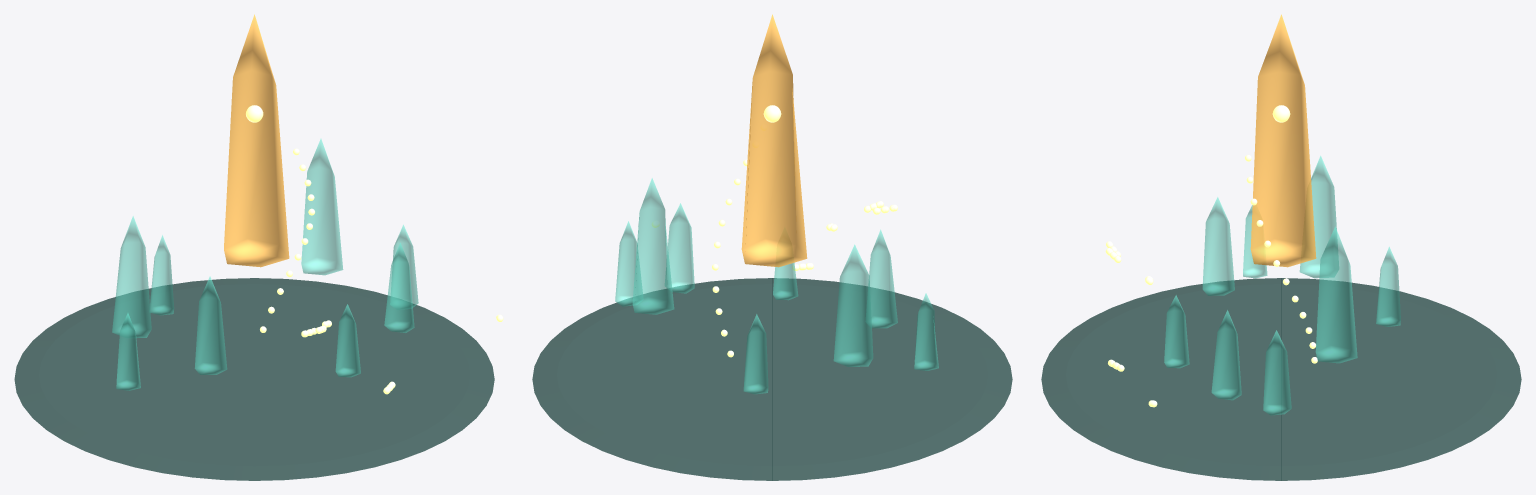
File: crystal-cluster.glb
The picture shows the model from 3 angles, left to right: view 1: azimuth 30°, elevation 25°; view 2: azimuth 150°, elevation 25°; view 3: azimuth 270°, elevation 25°; orthographic projection.
Parts seen in each view (by area): view 1: dark_crystal_base, main_crystal_final, cluster_crystal_02, cluster_crystal_00, cluster_crystal_01, cluster_crystal_03, cluster_crystal_05, cluster_crystal_06, cluster_crystal_04, cluster_crystal_07; view 2: dark_crystal_base, main_crystal_final, cluster_crystal_02, cluster_crystal_00, cluster_crystal_01, cluster_crystal_03, cluster_crystal_05, cluster_crystal_06, cluster_crystal_04, cluster_crystal_07; view 3: dark_crystal_base, main_crystal_final, cluster_crystal_02, cluster_crystal_00, cluster_crystal_01, cluster_crystal_03, cluster_crystal_05, cluster_crystal_06, cluster_crystal_07, cluster_crystal_04.
Boxes of the visible parts, box(x1,y1,x2,y2) form: dark_crystal_base: box(14, 278, 494, 480); main_crystal_final: box(224, 14, 289, 267); cluster_crystal_02: box(301, 139, 343, 275); cluster_crystal_00: box(112, 216, 151, 338); cluster_crystal_01: box(195, 276, 227, 374); cluster_crystal_03: box(384, 243, 414, 332); cluster_crystal_05: box(390, 225, 418, 309); cluster_crystal_06: box(149, 235, 174, 315); cluster_crystal_04: box(116, 313, 140, 390); cluster_crystal_07: box(335, 304, 360, 377); dark_crystal_base: box(532, 278, 1012, 480); main_crystal_final: box(741, 14, 807, 267); cluster_crystal_02: box(632, 178, 674, 314); cluster_crystal_00: box(833, 244, 873, 366); cluster_crystal_01: box(866, 229, 897, 328); cluster_crystal_03: box(665, 203, 694, 293); cluster_crystal_05: box(615, 221, 643, 306); cluster_crystal_06: box(743, 314, 768, 394); cluster_crystal_04: box(914, 293, 938, 370); cluster_crystal_07: box(773, 263, 798, 300); dark_crystal_base: box(1041, 278, 1521, 480); main_crystal_final: box(1250, 14, 1316, 267); cluster_crystal_02: box(1315, 226, 1357, 363); cluster_crystal_00: box(1299, 156, 1338, 278); cluster_crystal_01: box(1202, 197, 1234, 295); cluster_crystal_03: box(1211, 310, 1241, 400); cluster_crystal_05: box(1263, 330, 1291, 415); cluster_crystal_06: box(1376, 247, 1400, 326); cluster_crystal_07: box(1164, 295, 1189, 368); cluster_crystal_04: box(1243, 205, 1267, 278).
Bounding box in the file's own units: 9.8 × 8.23 × 9.8.
